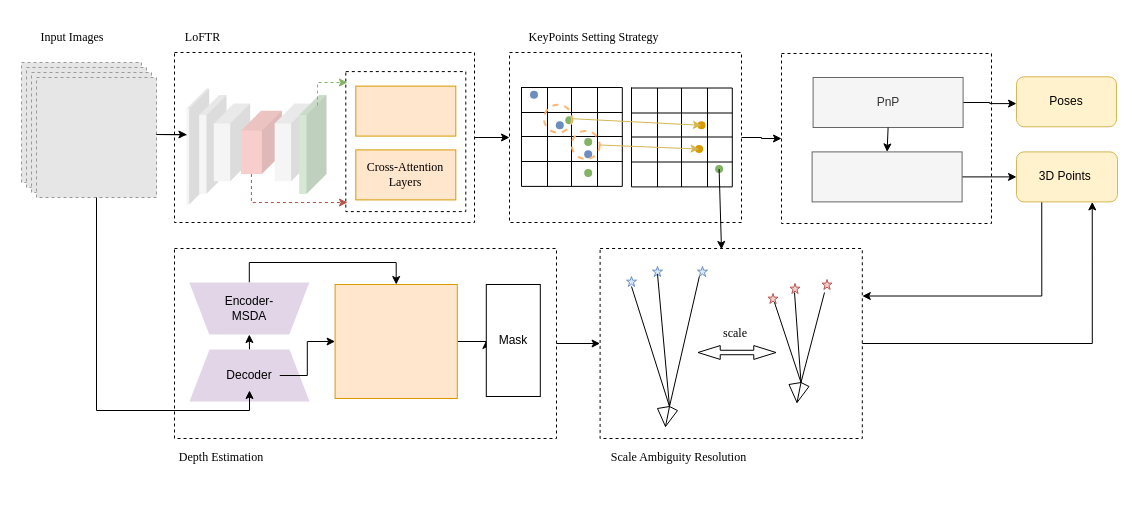
Image size: 1135x509. Some labels were removed from this diagram. Grey dashed boxes stand in for pictures. The centre of each missing label's shape, as x and y in pixels:
"Internal Discretization Module" goes at point (395, 341).
"Self-Attention Layers" goes at point (405, 110).
"Triangulation" goes at point (886, 176).
